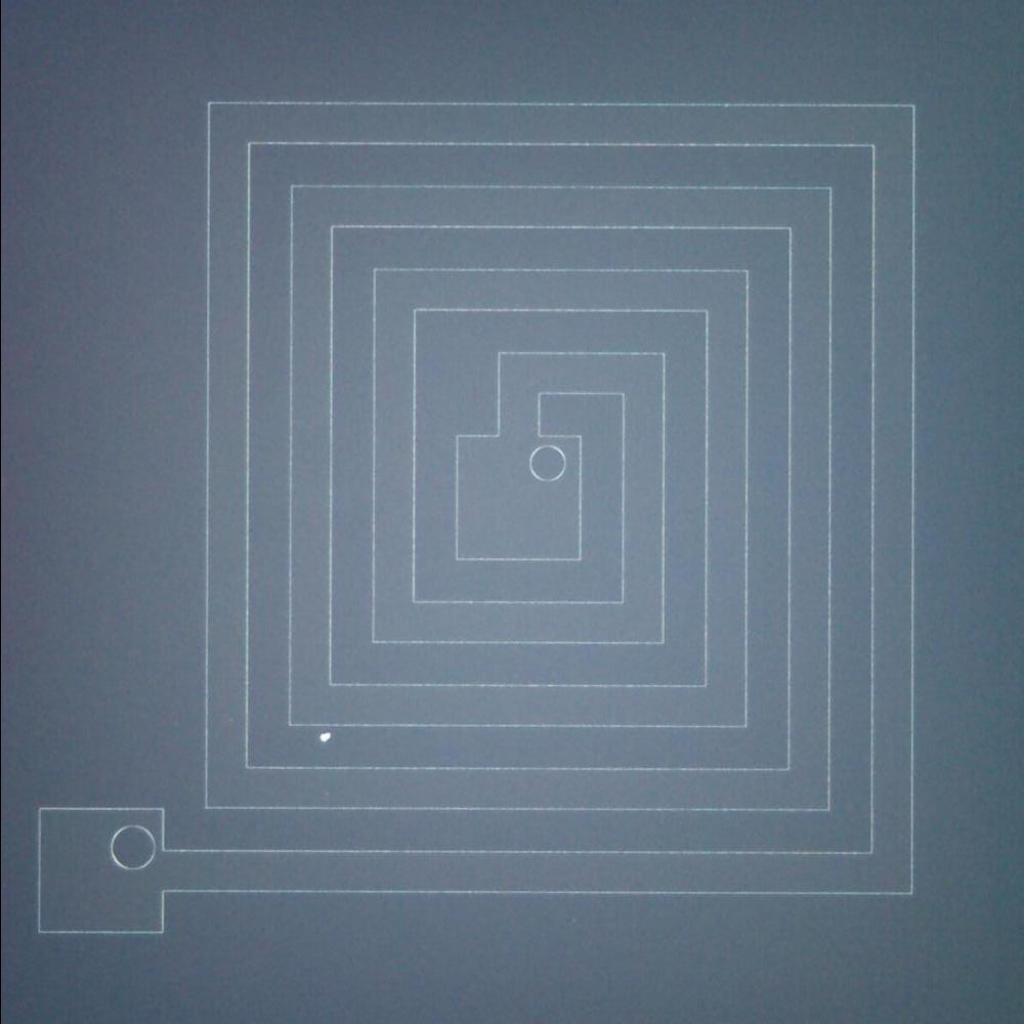circle: (105, 819, 158, 874), (527, 444, 570, 482)
spot: (310, 721, 337, 749)
